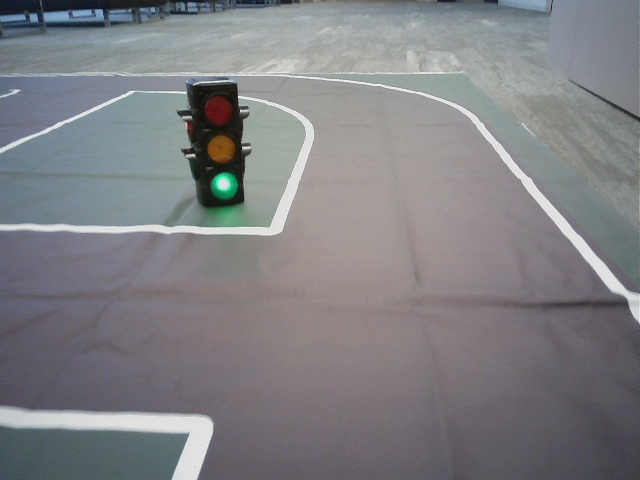green: (193, 88, 242, 207)
